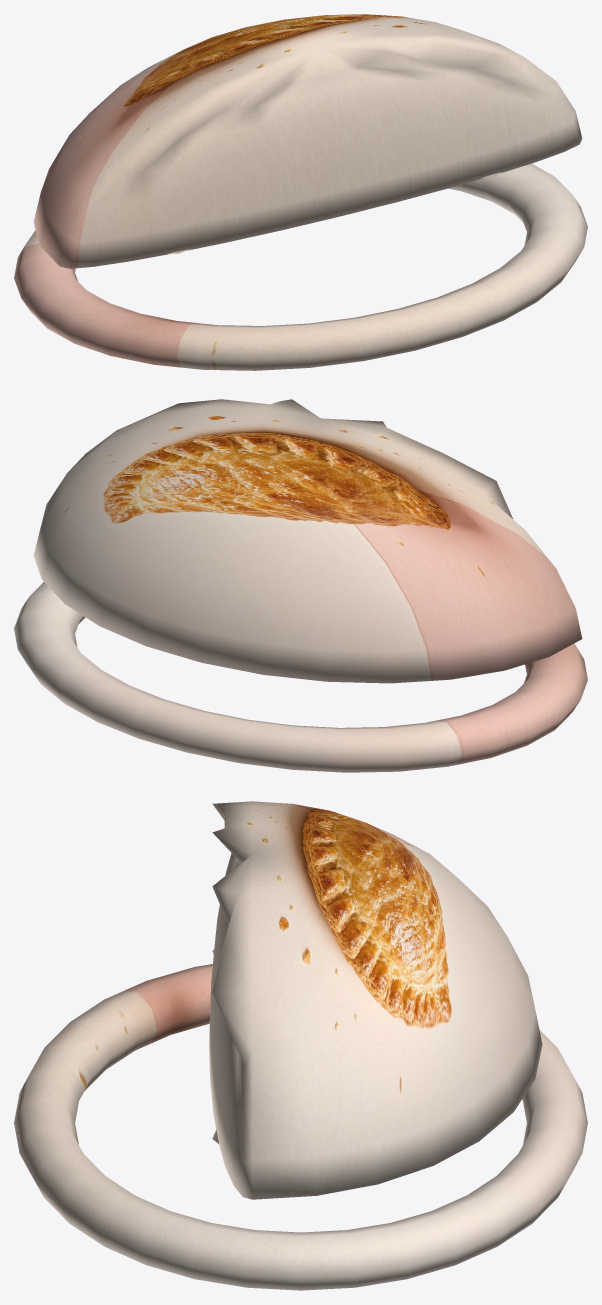
Rendered from prop_savory.glb.
The picture shows the model from 3 angles, top to bottom: view 1: azimuth 30°, elevation 25°; view 2: azimuth 150°, elevation 25°; view 3: azimuth 270°, elevation 25°; orthographic projection. The views are drawn at different scales.
Visible parts, largest first — view 1: prop_savory; view 2: prop_savory; view 3: prop_savory.
Boxes of the visible parts, x1,y1,x2,y2 form: prop_savory: (14,14,587,370); prop_savory: (14,399,587,772); prop_savory: (14,801,587,1290).
Size of the model in its own units: 0.1513 by 0.0668 by 0.1184.
2 materials, 2 textured.
